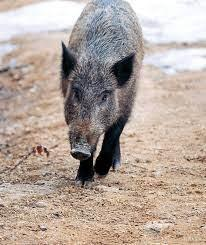Hog: (54, 0, 146, 187)
